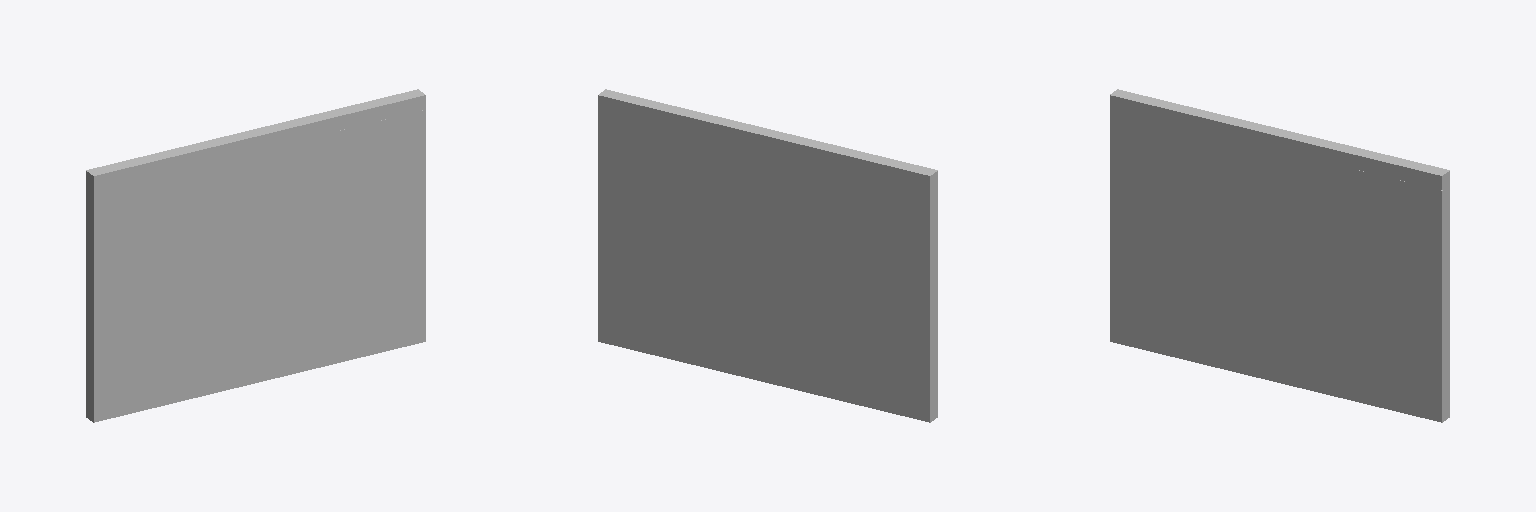
Rendered from df4d_left_board_d.obj.
3 renders of one model, left to right at view 1: azimuth 30°, elevation 25°; view 2: azimuth 150°, elevation 25°; view 3: azimuth 330°, elevation 25°, orthographic.
Visible parts, largest first — view 1: df4d_left_broad_d; view 2: df4d_left_broad_d; view 3: df4d_left_broad_d.
Part boxes in pixels (x1,y1,x2,y2): df4d_left_broad_d: (86, 89, 425, 422); df4d_left_broad_d: (598, 89, 937, 422); df4d_left_broad_d: (1110, 89, 1449, 422).
Size of the model in its own units: 3 by 2.12 by 0.1258.